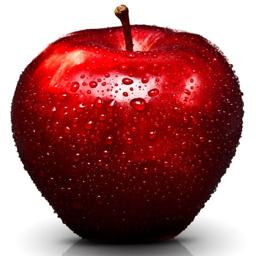Apple Fresh: (0, 27, 249, 247)
